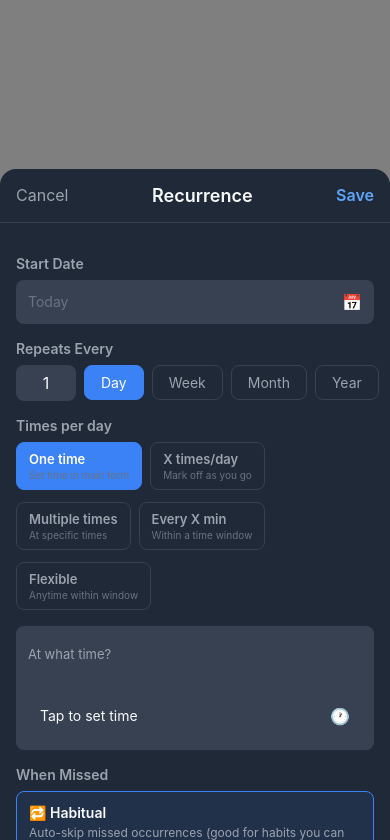
it: RecurrencePicker › interval › shows plural label on button when interval > 1
The image size is (390, 840).
Replace the text in the field named "Interval number" with "2" at (46, 383), box [16,365,76,401]
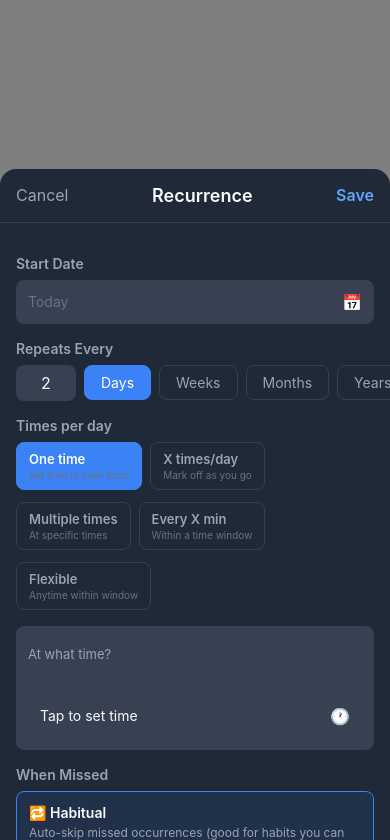
expect the text "Days" is shown: met, box [101,374,134,391]
